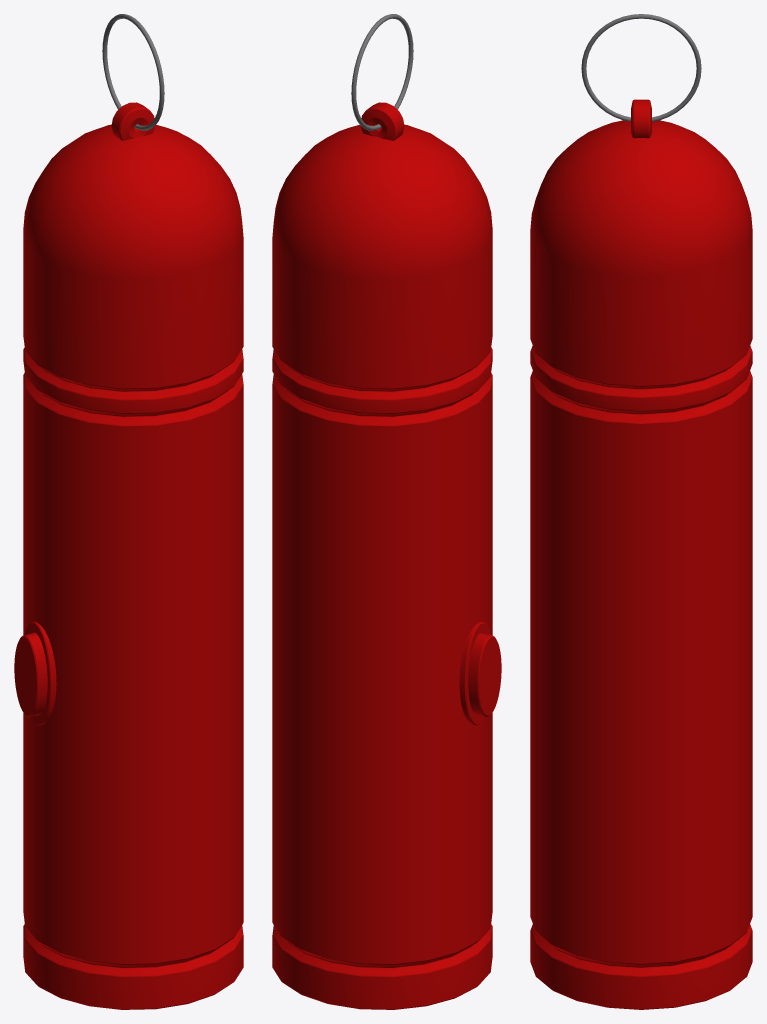
File: jiguangbi.obj
The picture shows the model from 3 angles, left to right: view 1: azimuth 30°, elevation 25°; view 2: azimuth 150°, elevation 25°; view 3: azimuth 270°, elevation 25°; orthographic projection.
Parts seen in each view (by area): view 1: jiguangbi bishen, anniu jiguangbi, jiguangbi bihuan, jiguangbi biwei; view 2: jiguangbi bishen, anniu jiguangbi, jiguangbi bihuan, jiguangbi biwei; view 3: jiguangbi bishen, jiguangbi bihuan, jiguangbi biwei.
Boxes of the visible parts, x1,y1,x2,y2 form: jiguangbi bishen: (23, 124, 243, 1009); anniu jiguangbi: (14, 621, 56, 725); jiguangbi bihuan: (102, 14, 164, 130); jiguangbi biwei: (111, 102, 154, 140); jiguangbi bishen: (272, 124, 492, 1009); anniu jiguangbi: (459, 621, 501, 725); jiguangbi bihuan: (351, 14, 413, 130); jiguangbi biwei: (361, 102, 404, 140); jiguangbi bishen: (530, 120, 752, 1009); jiguangbi bihuan: (581, 14, 701, 121); jiguangbi biwei: (631, 99, 651, 138).
Size of the model in its own units: 2.12 by 9.43 by 2.
